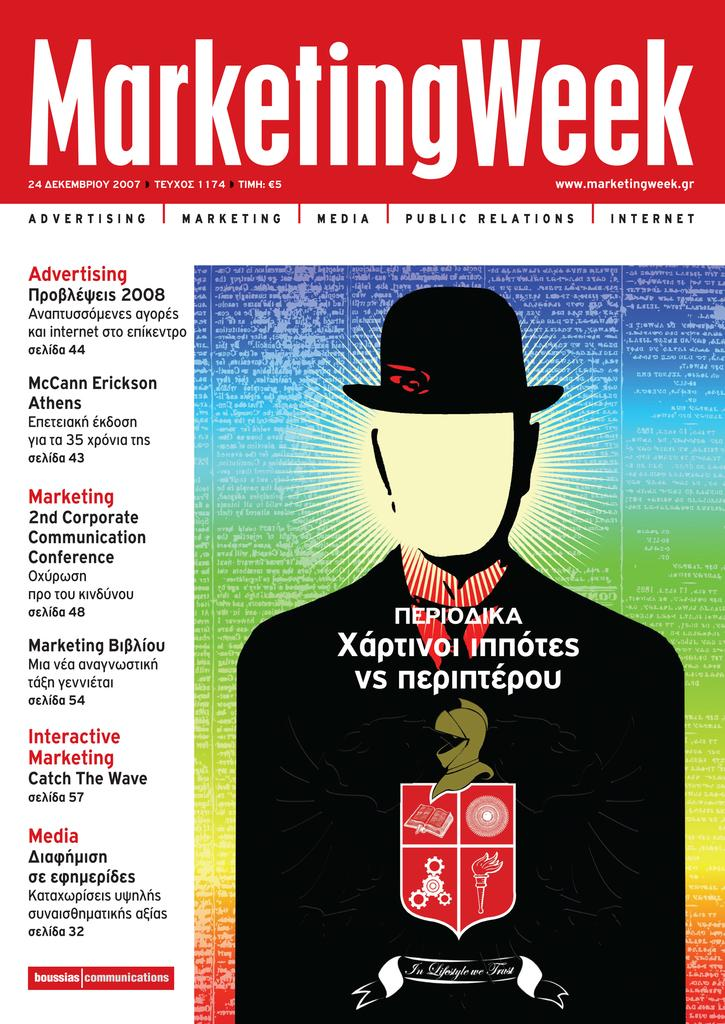Hat: (337, 285, 568, 420)
